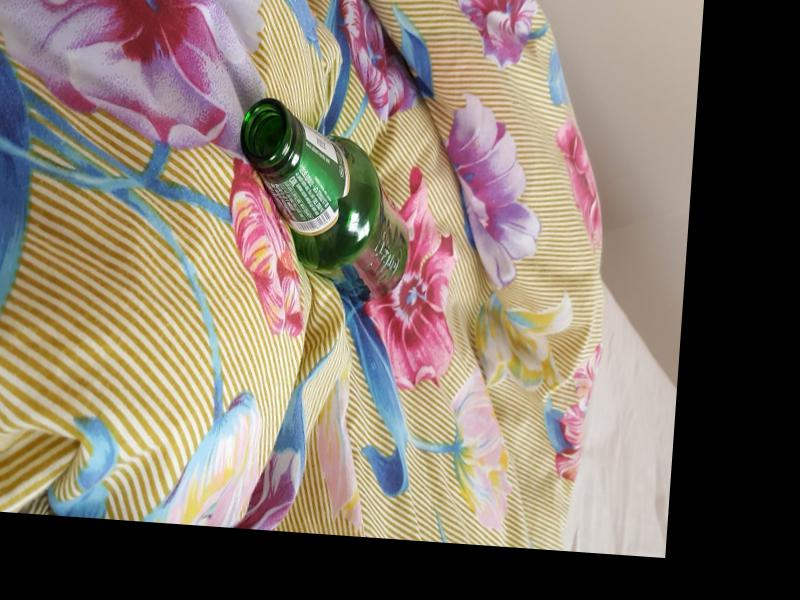Beer: (227, 94, 418, 303)
